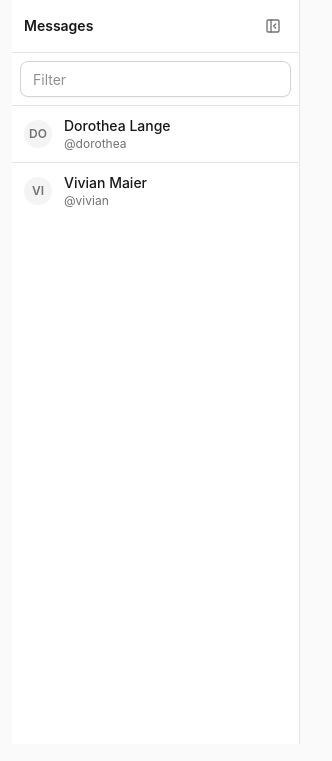
Test: the filter also matches the @username
Expected: the text "Vivian Maier" is shown, [64,173,147,193]
Type "vivian" into the search field labelled "Filter" at (156, 79), box [20,61,291,97]
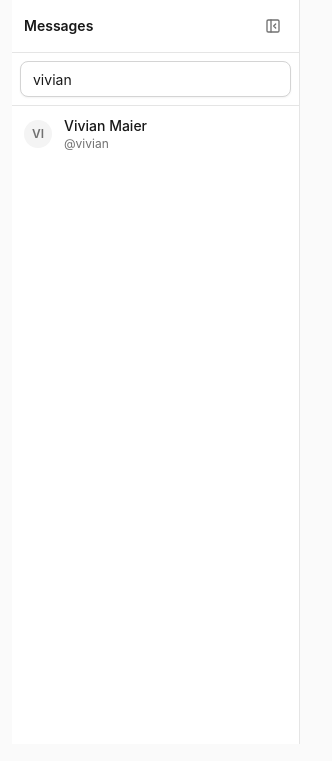
Expected: the text "Vivian Maier" is shown, [64,116,147,136]
Result: the button "Dorothea Lange" is gone
